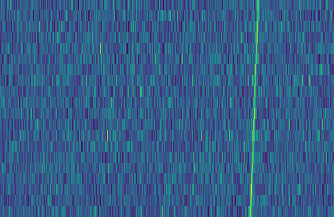signal: (247, 0, 264, 217)
